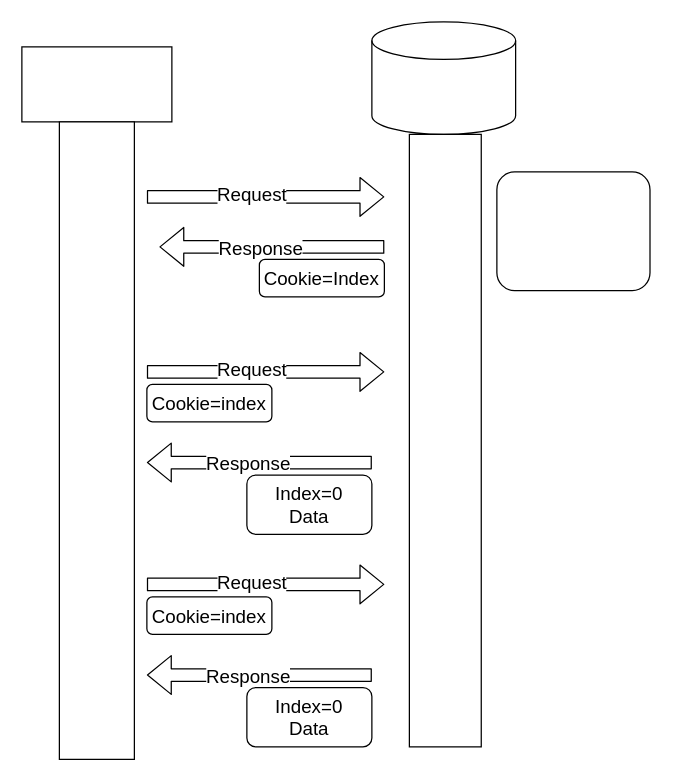
Image size: 673x781. Some labels were removed from this diagram. Here are the shapes that lost their labels. From the top down, the centre of each, then its label:
the point at 96,84: Browser
the point at 443,77: Server
